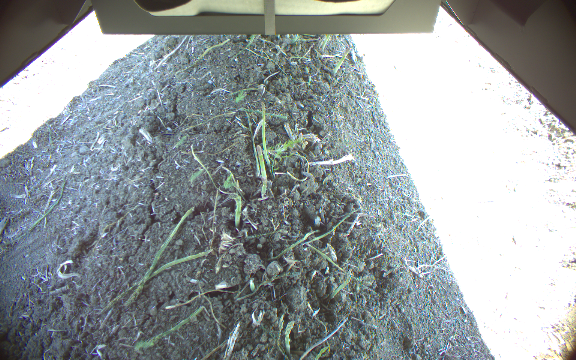aspa: (258, 101, 271, 165), (255, 144, 268, 196), (331, 47, 352, 76), (230, 194, 243, 229)
